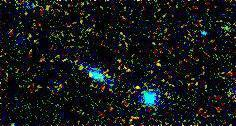star: (125, 67, 155, 97)
